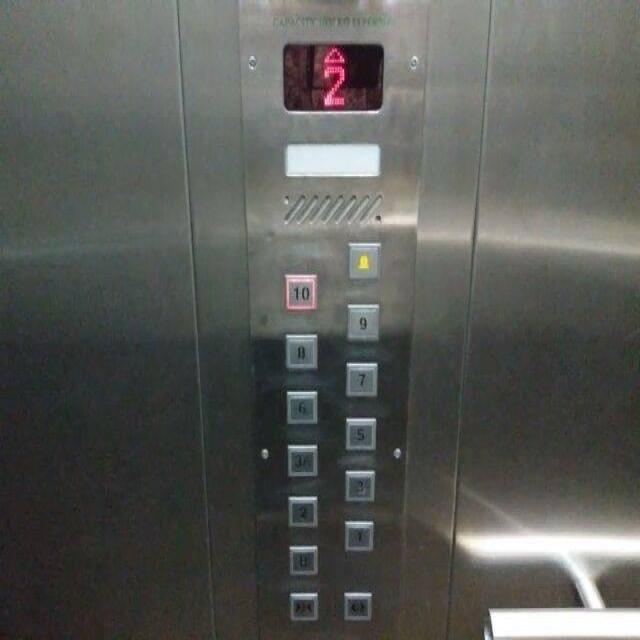1: (343, 519, 374, 553)
10: (283, 271, 318, 313)
2: (286, 494, 320, 530)
3: (343, 467, 377, 502)
3A: (285, 442, 319, 478)
5: (342, 414, 377, 454)
6: (284, 386, 319, 426)
7: (344, 359, 378, 397)
8: (282, 329, 317, 372)
9: (344, 301, 379, 344)
G: (288, 543, 319, 577)
alarm: (345, 237, 381, 284)
close: (289, 589, 320, 624)
led: (279, 36, 386, 120)
open: (342, 589, 373, 624)
